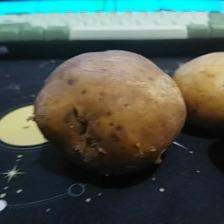Damaged potato: (31, 50, 185, 175)
Potato: (170, 51, 224, 130)
